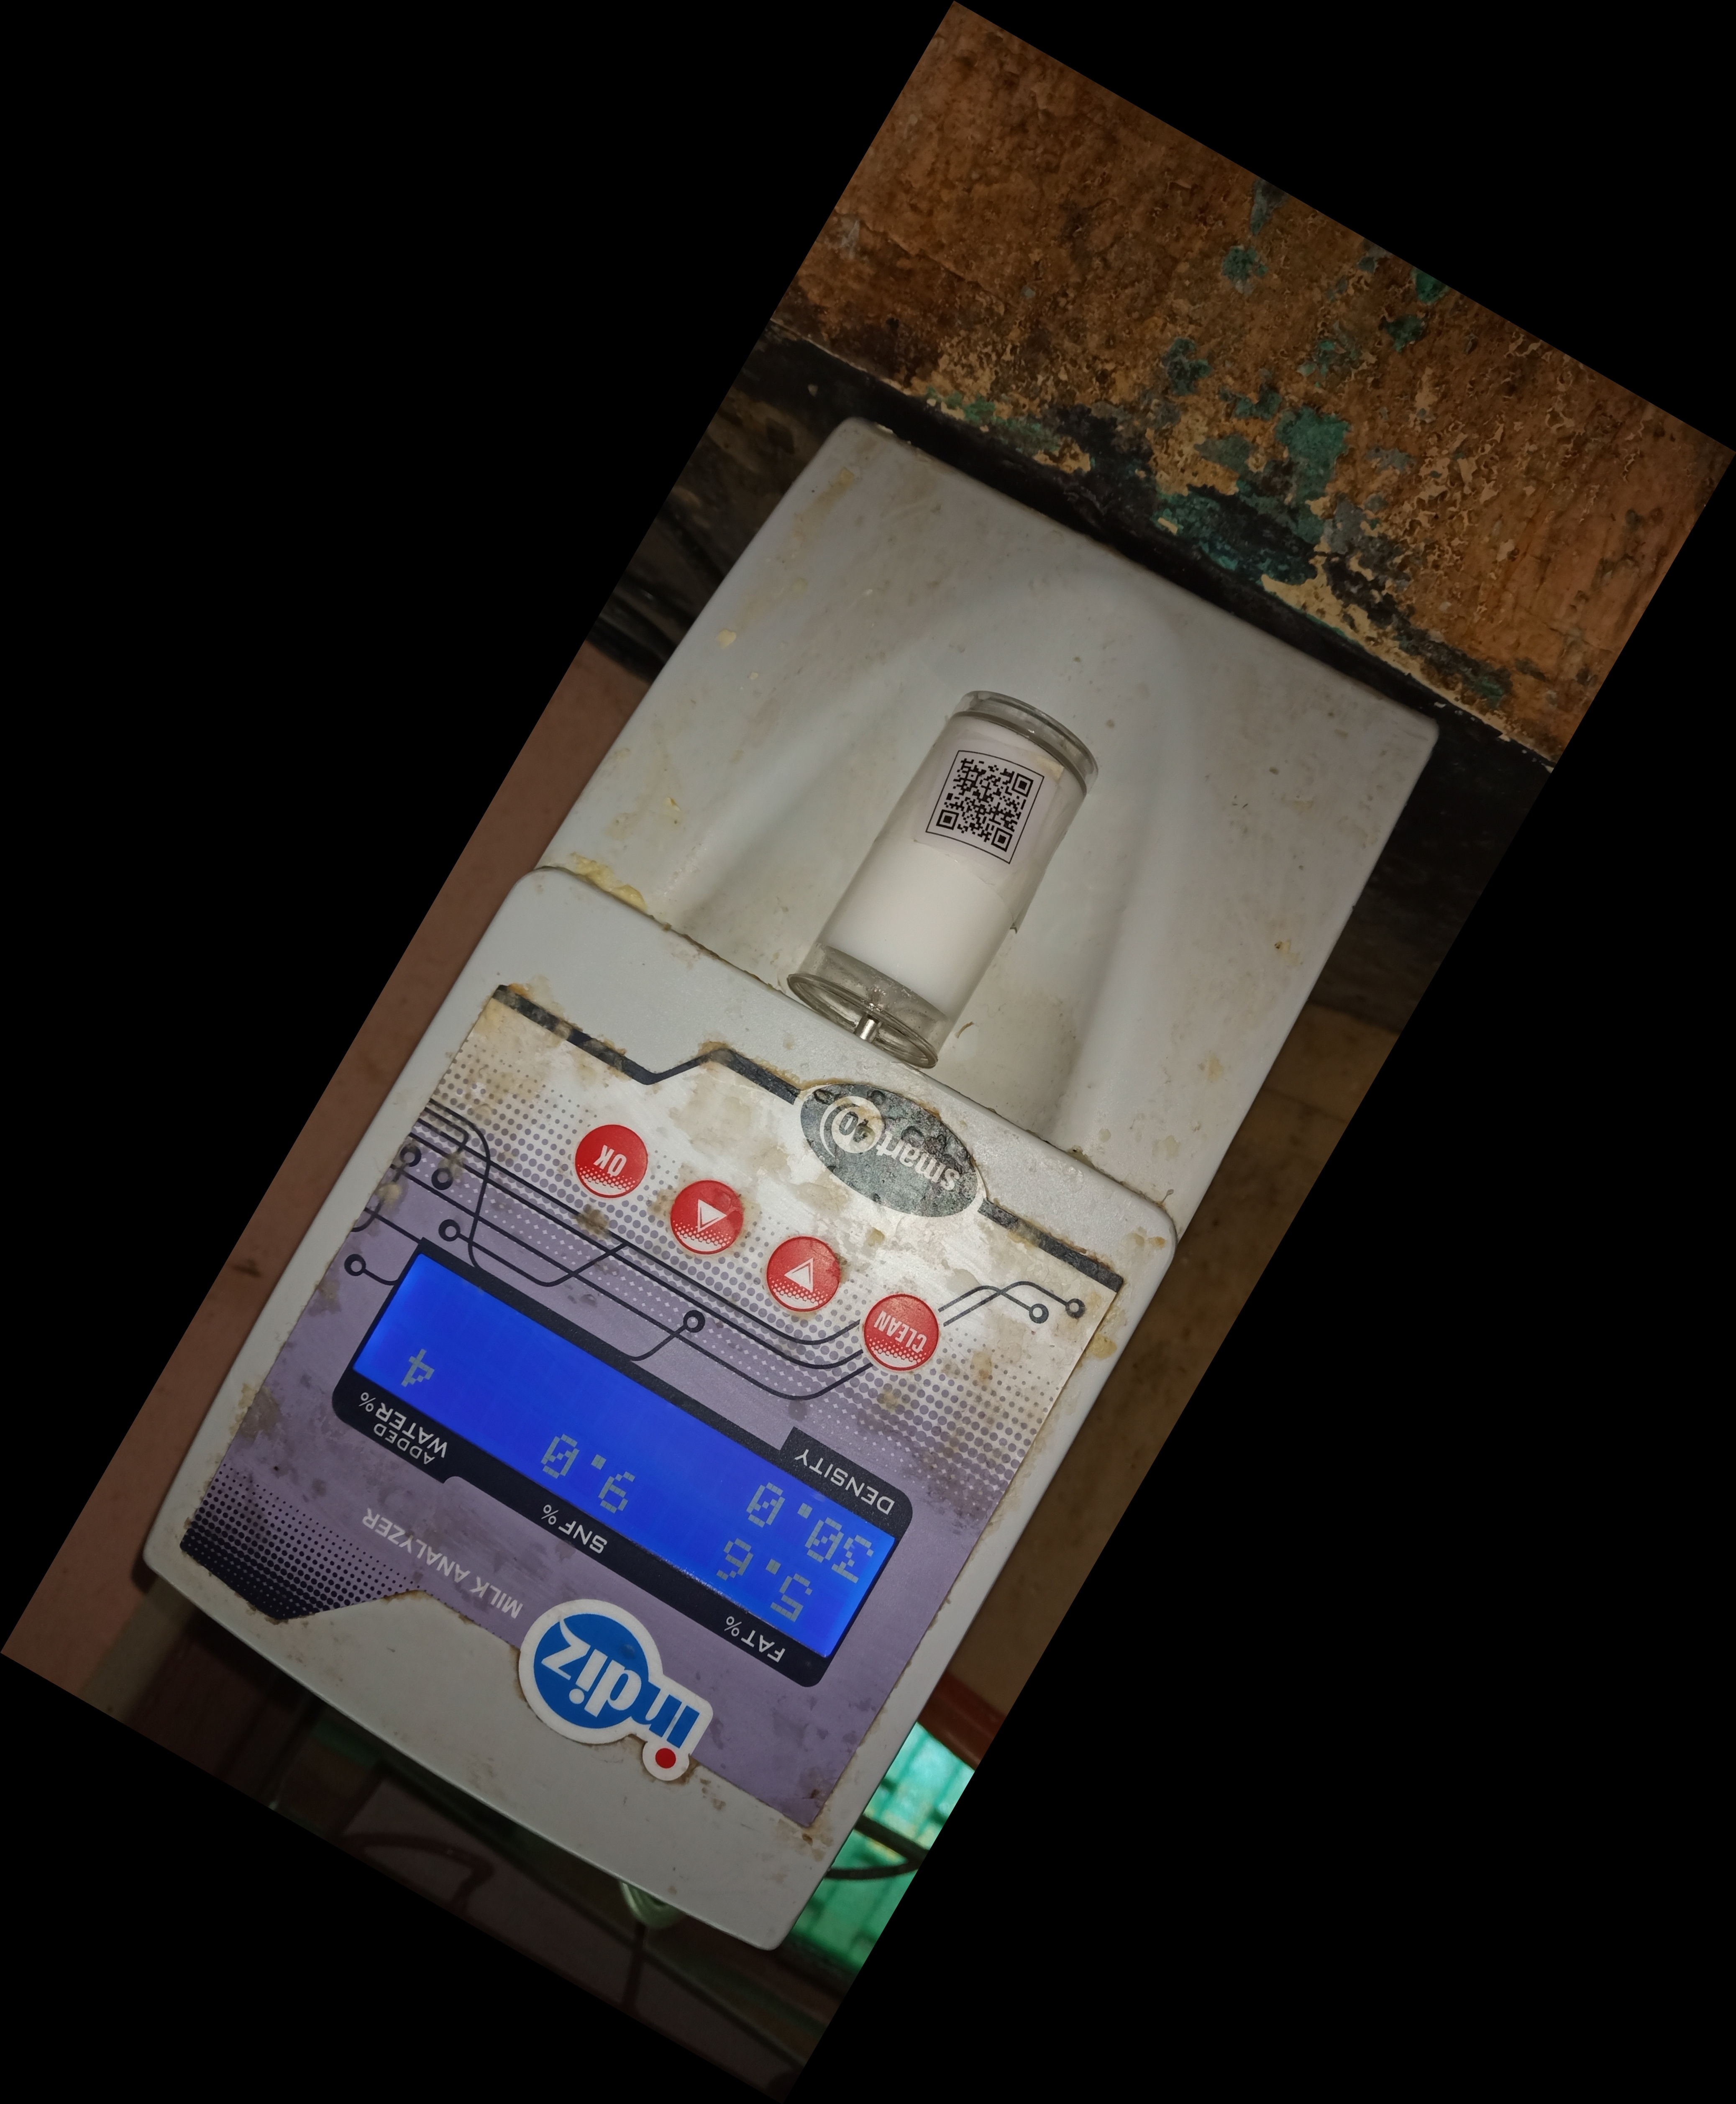lcd: (328, 1232, 915, 1721)
qr: (912, 734, 1057, 891)
